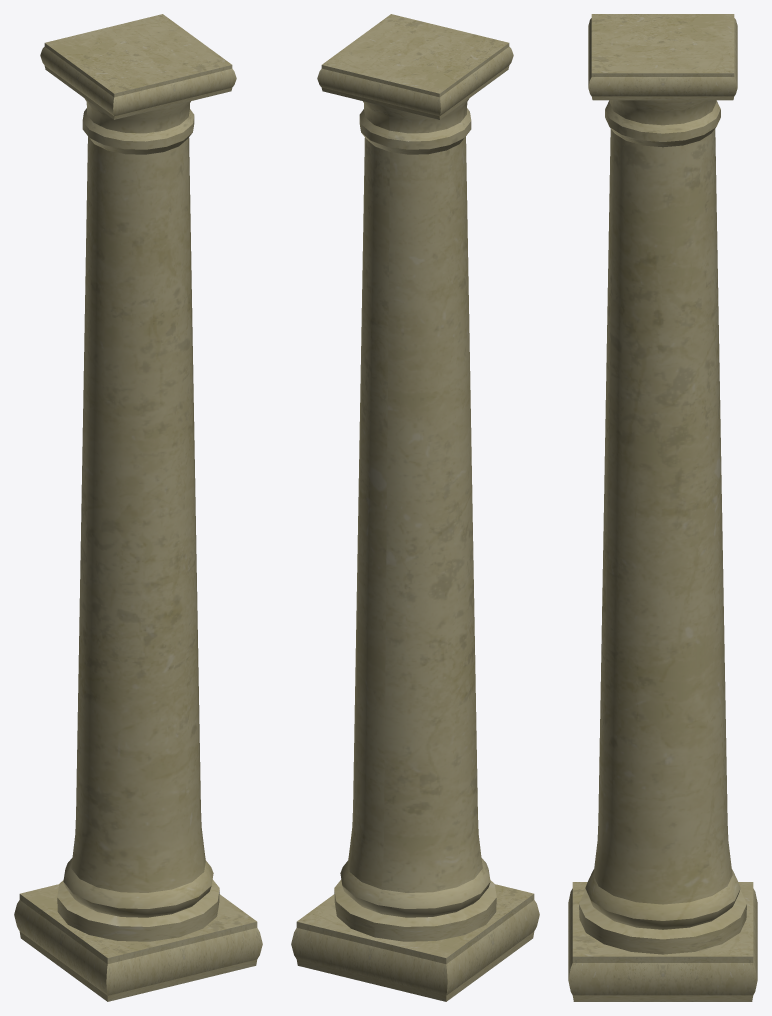
Rendered from Prop_Column_Trim.gltf.
The picture shows the model from 3 angles, left to right: view 1: azimuth 30°, elevation 25°; view 2: azimuth 150°, elevation 25°; view 3: azimuth 270°, elevation 25°; orthographic projection. The views are drawn at different scales.
Visible parts, largest first — view 1: Prop_Column_Trim; view 2: Prop_Column_Trim; view 3: Prop_Column_Trim.
Boxes of the visible parts, bbox=[...] form: Prop_Column_Trim: bbox=[14, 14, 262, 1001]; Prop_Column_Trim: bbox=[291, 14, 539, 1001]; Prop_Column_Trim: bbox=[568, 14, 757, 1001].
Bounding box in the file's own units: 0.543 × 2.98 × 0.5539.
Materials: 1 (1 with a texture image).
